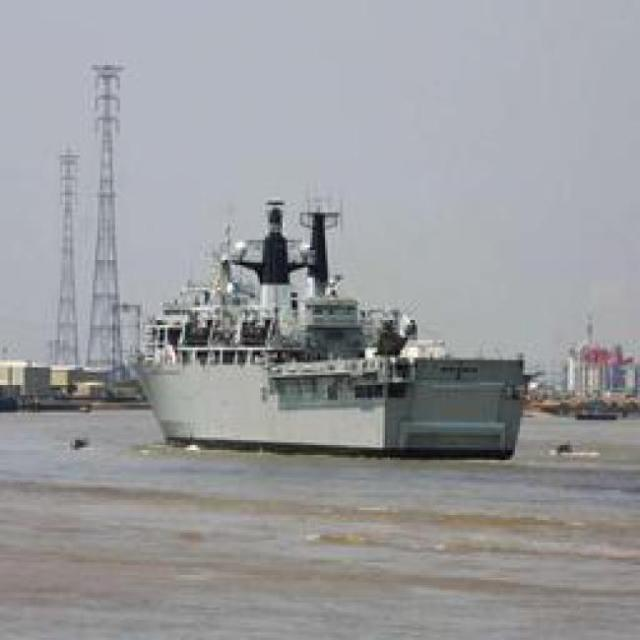boat: (120, 268, 537, 468)
